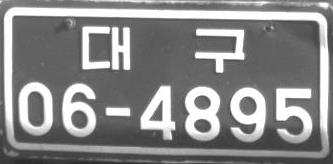0: (17, 80, 53, 135)
4: (140, 84, 175, 140)
5: (274, 87, 314, 144)
6: (61, 81, 97, 138)
8: (184, 85, 221, 142)
9: (229, 86, 267, 143)
대구_D: (80, 25, 245, 74)
